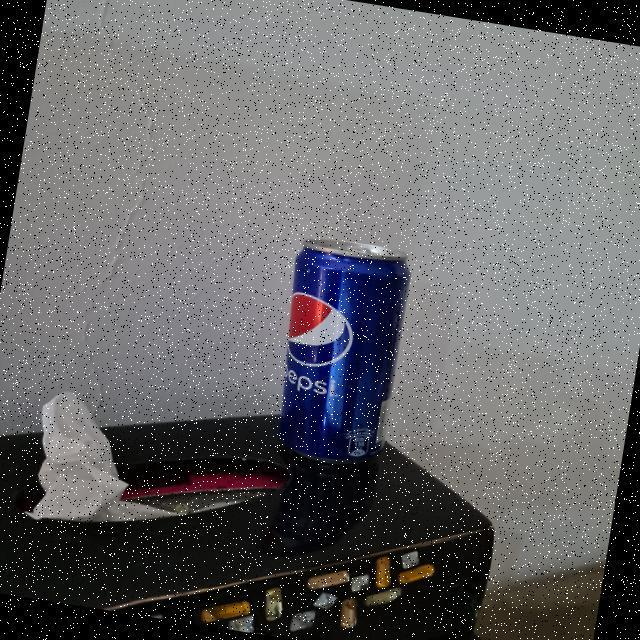can: (253, 228, 435, 471)
